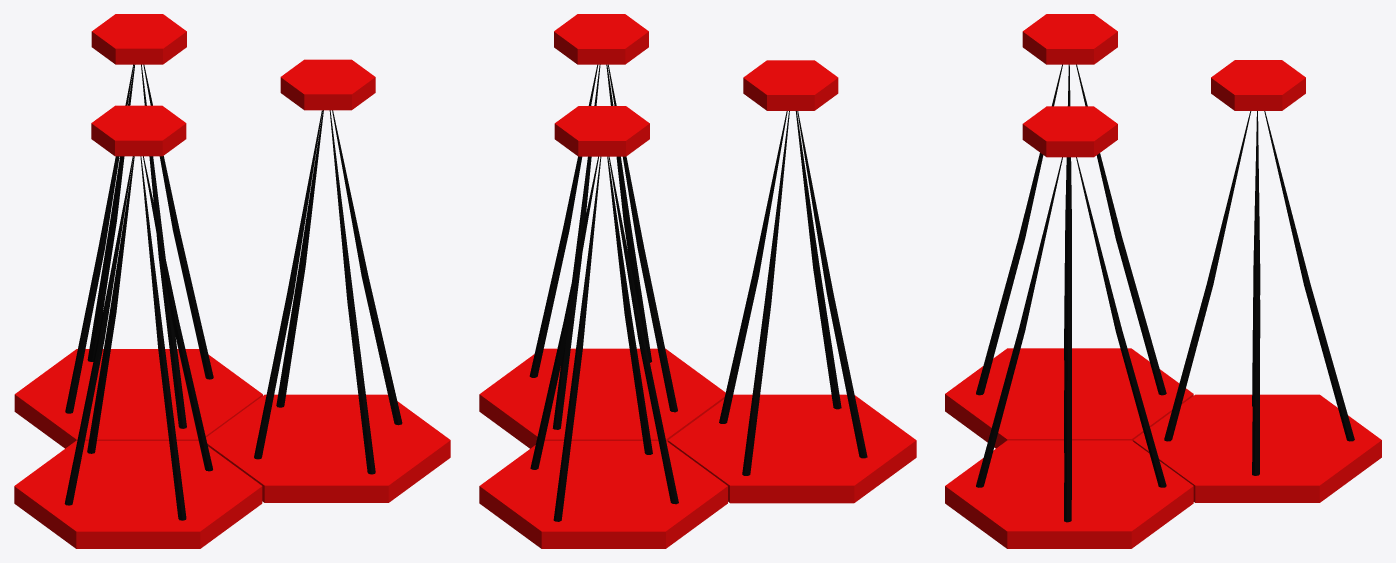
Rendered from HangingFuturelamp2 - Textured.fbx.
3 renders of one model, left to right at view 1: azimuth 30°, elevation 25°; view 2: azimuth 150°, elevation 25°; view 3: azimuth 270°, elevation 25°, orthographic.
Parts seen in each view (by area): view 1: Cylinder.007; view 2: Cylinder.007; view 3: Cylinder.007.
Part boxes in pixels (box(x1,y1,x2,y2)): Cylinder.007: box(14, 14, 450, 548); Cylinder.007: box(479, 14, 916, 548); Cylinder.007: box(945, 14, 1381, 548).
Size of the model in its own units: 166 by 165 by 160.
